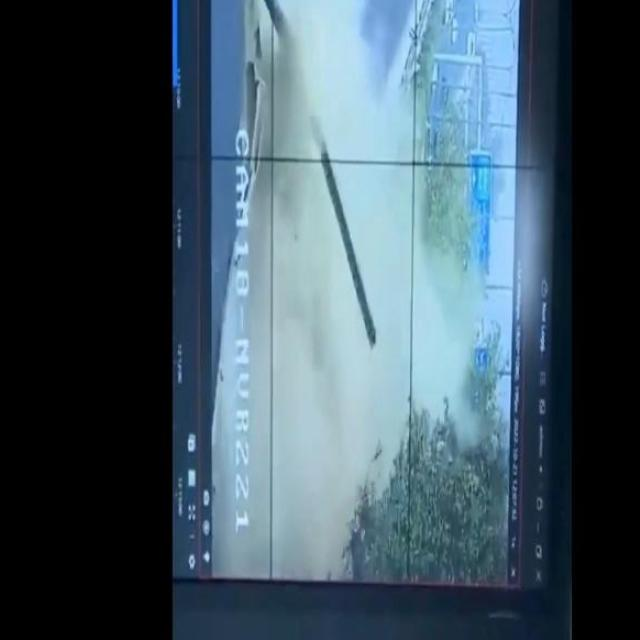accident: (248, 0, 404, 588)
